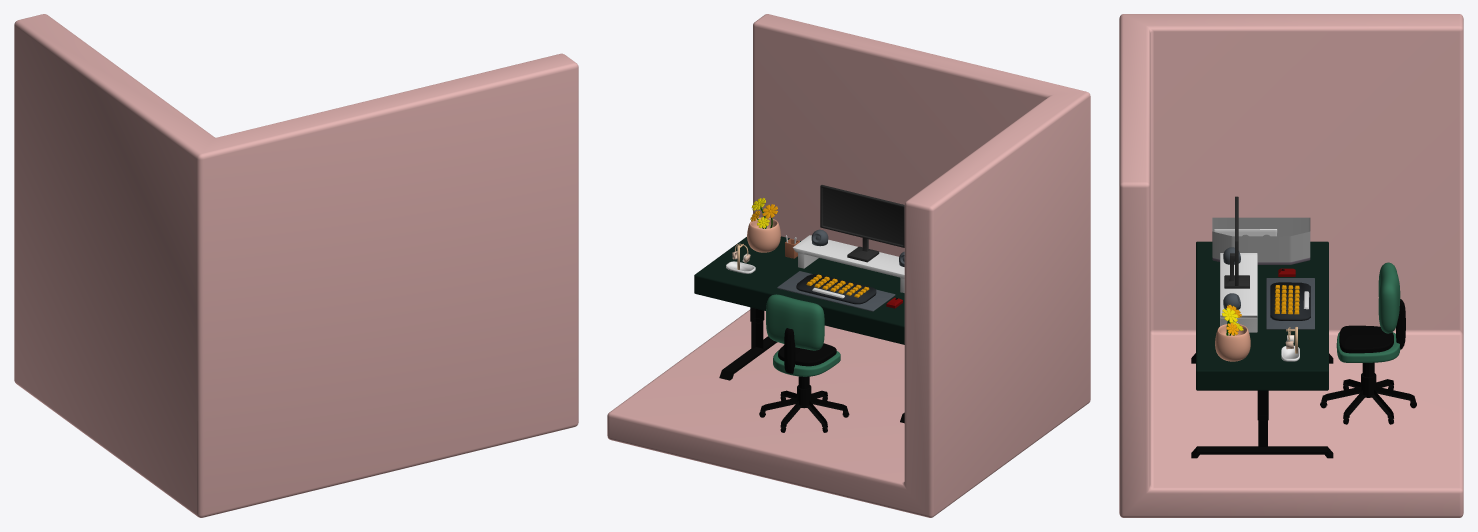
File: 3droom.glb
3 views of the same model, side by side, from view 1: azimuth 30°, elevation 25°; view 2: azimuth 150°, elevation 25°; view 3: azimuth 270°, elevation 25° (orthographic). The views are drawn at different scales.
Visible parts, largest first — view 1: Cube; view 2: Cube, Cube.001, Plane.004, Cube.017, Plane.002, Cube.003, Cube.002, Plane.013, Plane.022, Plane.021, Plane.001, Plane.006; view 3: Cube, Cube.001, Plane.018, Plane.002, Plane.001, Cube.017, Plane.022, Cube.002, Cube.003, Plane.013, Plane.021, Plane.006 (+4 smaller).
Boxes of the visible parts, x1=… form: Cube: x1=14, y1=14, x2=578, y2=517; Cube: x1=607, y1=14, x2=1090, y2=517; Cube.001: x1=694, y1=236, x2=904, y2=344; Plane.004: x1=820, y1=185, x2=904, y2=247; Cube.017: x1=766, y1=294, x2=824, y2=350; Plane.002: x1=793, y1=235, x2=904, y2=292; Cube.003: x1=796, y1=274, x2=876, y2=304; Cube.002: x1=777, y1=271, x2=895, y2=311; Plane.013: x1=747, y1=217, x2=780, y2=252; Plane.022: x1=778, y1=343, x2=836, y2=366; Plane.021: x1=773, y1=350, x2=840, y2=376; Plane.001: x1=719, y1=336, x2=904, y2=423; Plane.006: x1=806, y1=274, x2=869, y2=297; Cube: x1=1119, y1=14, x2=1463, y2=517; Cube.001: x1=1196, y1=241, x2=1328, y2=390; Plane.018: x1=1212, y1=217, x2=1310, y2=262; Plane.002: x1=1220, y1=253, x2=1257, y2=332; Plane.001: x1=1191, y1=353, x2=1333, y2=458; Cube.017: x1=1378, y1=262, x2=1400, y2=333; Plane.022: x1=1339, y1=325, x2=1393, y2=353; Cube.002: x1=1266, y1=278, x2=1314, y2=329; Cube.003: x1=1270, y1=282, x2=1310, y2=320; Plane.013: x1=1215, y1=324, x2=1250, y2=361; Plane.021: x1=1336, y1=332, x2=1400, y2=362; Plane.006: x1=1274, y1=285, x2=1299, y2=314.
Bounding box in the file's own units: 6.4 × 5.84 × 5.42.
